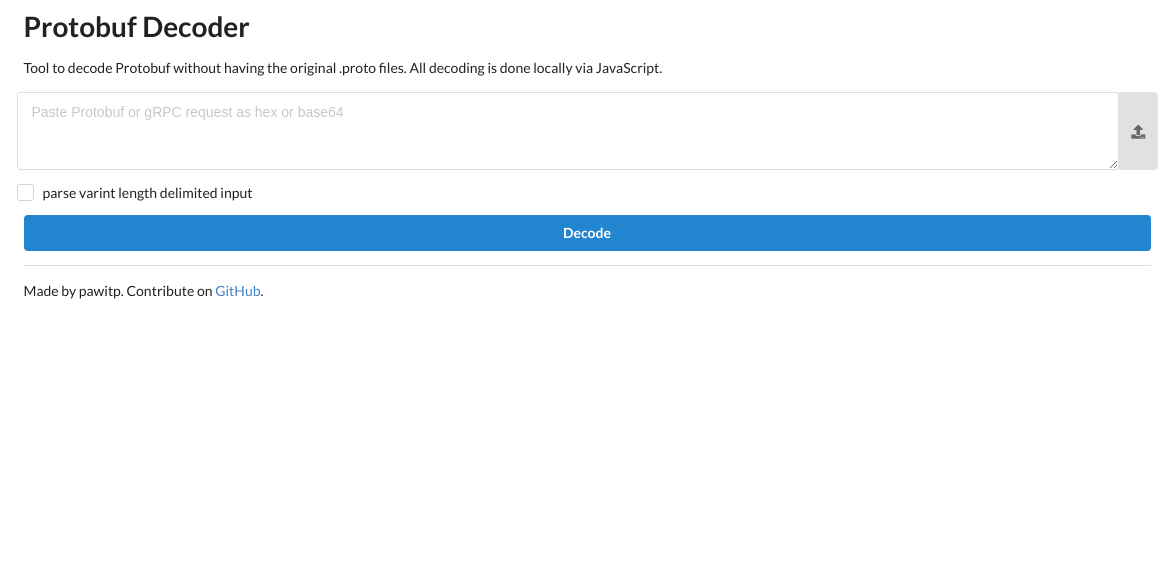
Test: App › renders ProtobufDisplay component if valid input is provided and decode button is clicked
In the text box with test id "input-hex": (568, 131) [16,92,1119,170], type "0x0801"
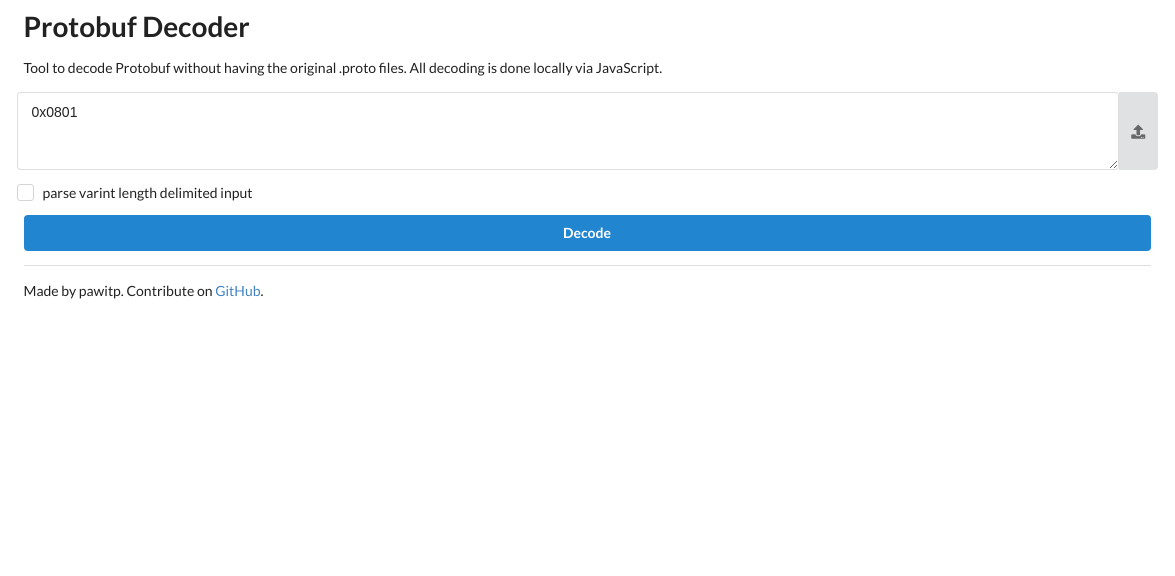
Click the button with test id "decode-button": (587, 233) [24,215,1150,251]
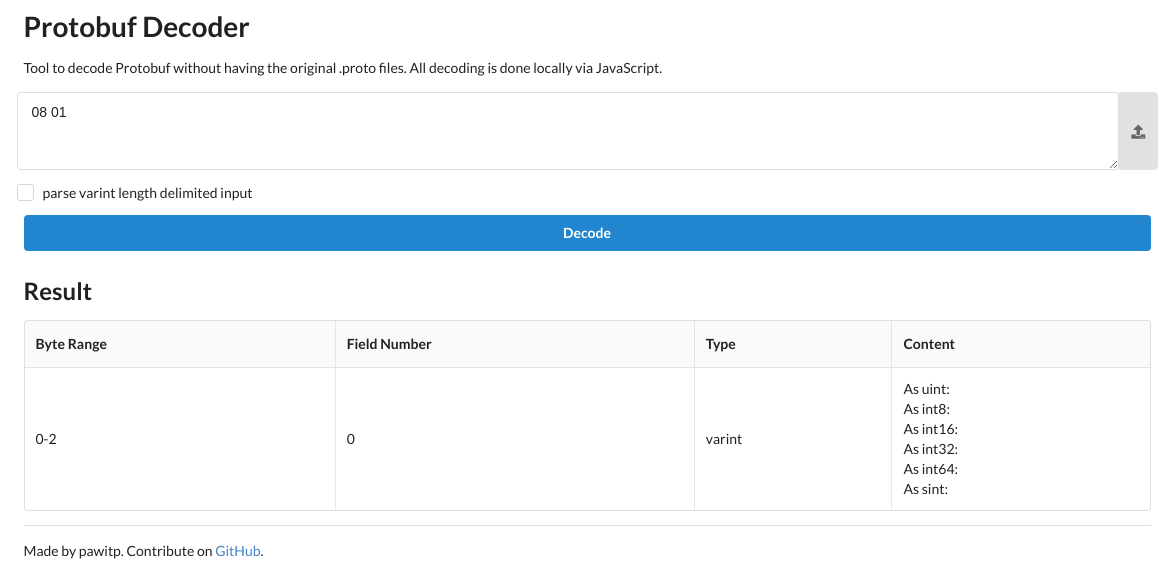
Expected: the heading "Result" is shown, [24,276,92,304]
